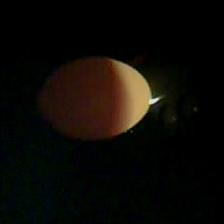fertile: (36, 54, 152, 140)
